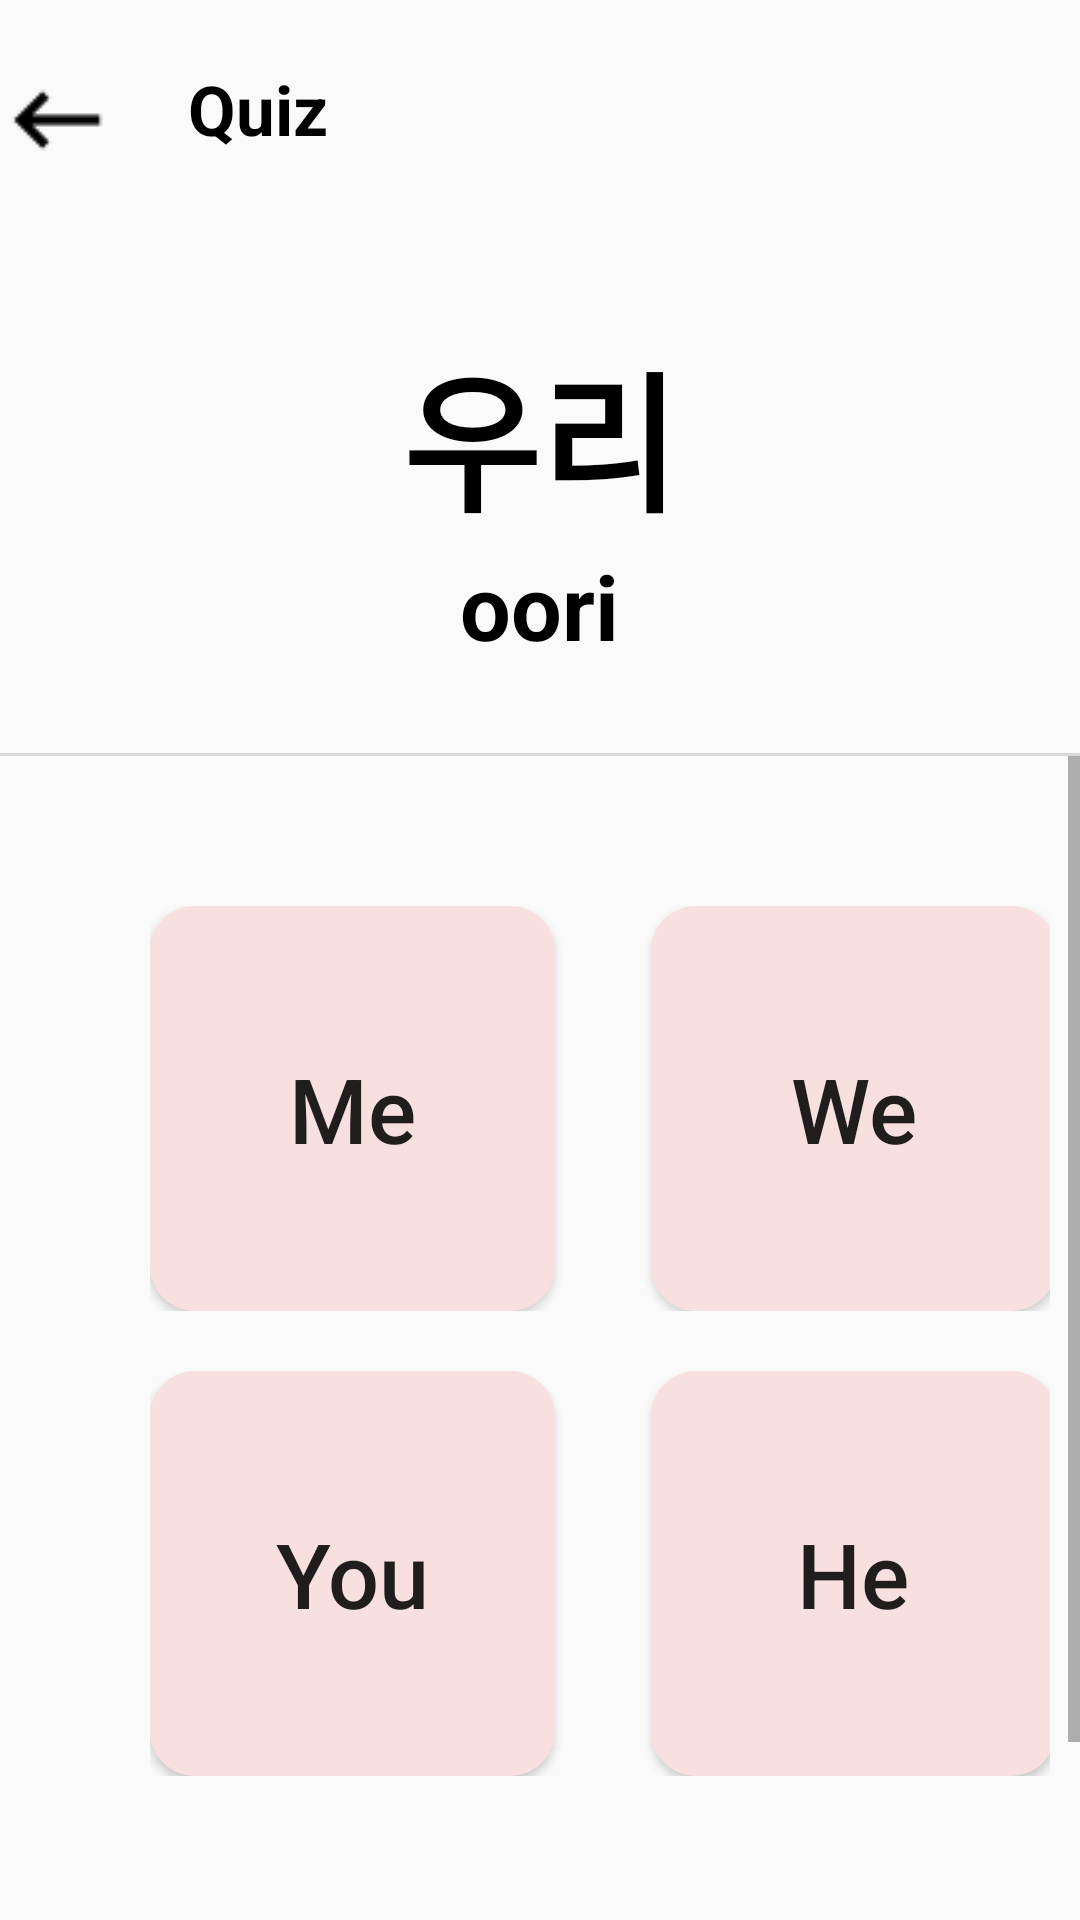

Named icons in this screenshot (1080px×1920px) and their centers, (x=x, y=y):
keyboard backspace: (x=58, y=120)
